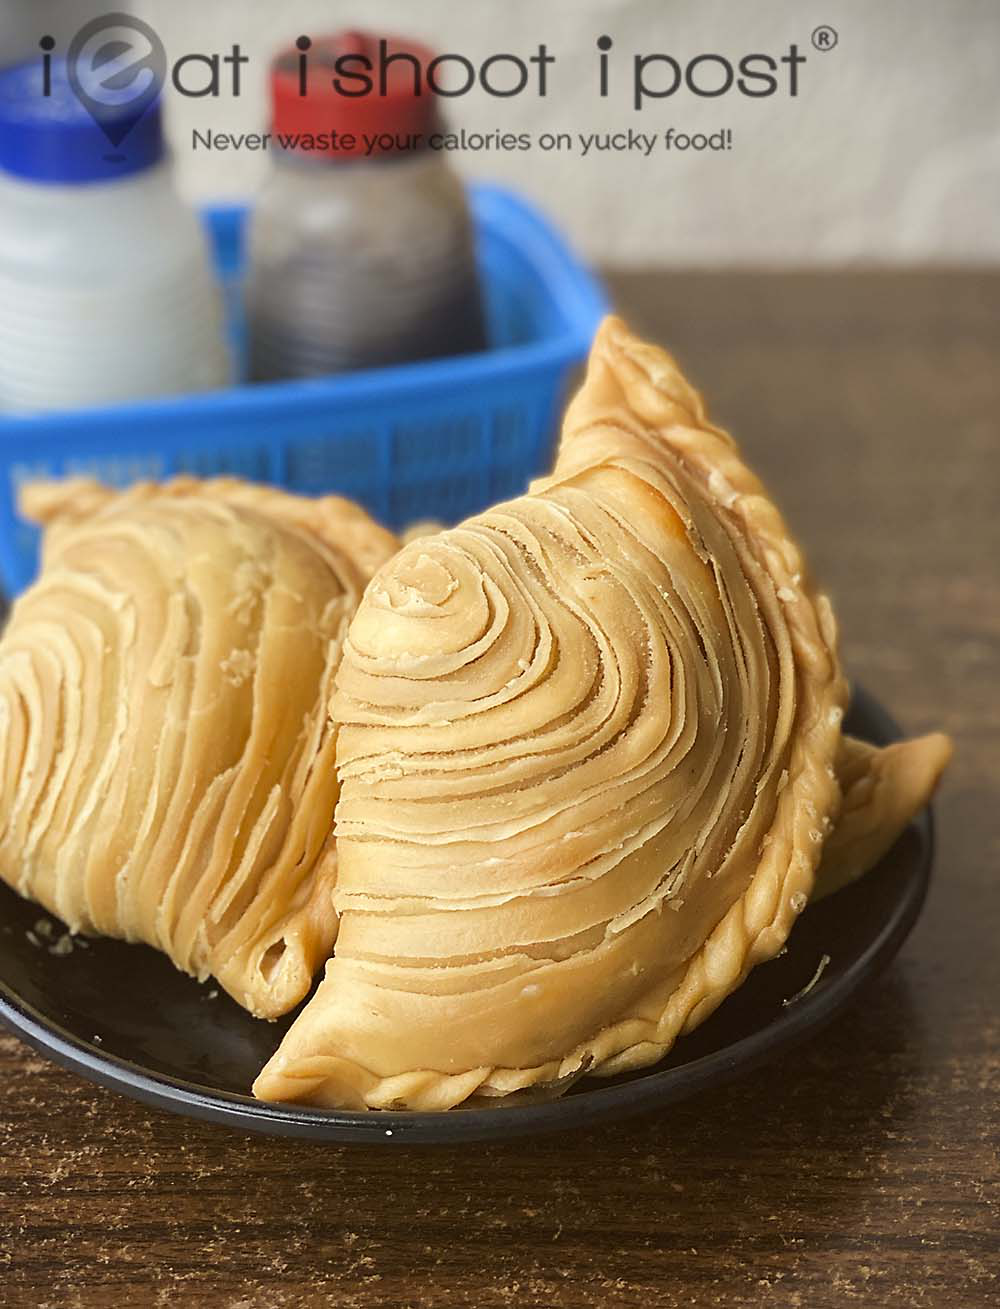Curry Puff: (270, 313, 877, 1159), (17, 416, 393, 1037)
